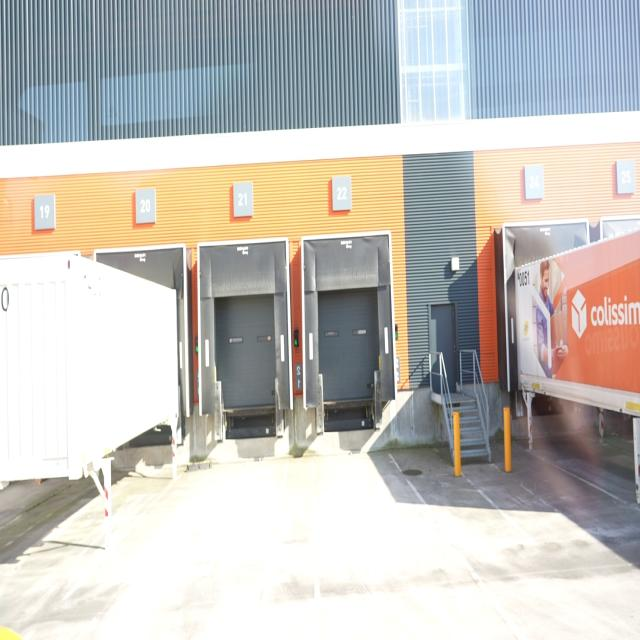Code: (513, 265, 531, 291)
